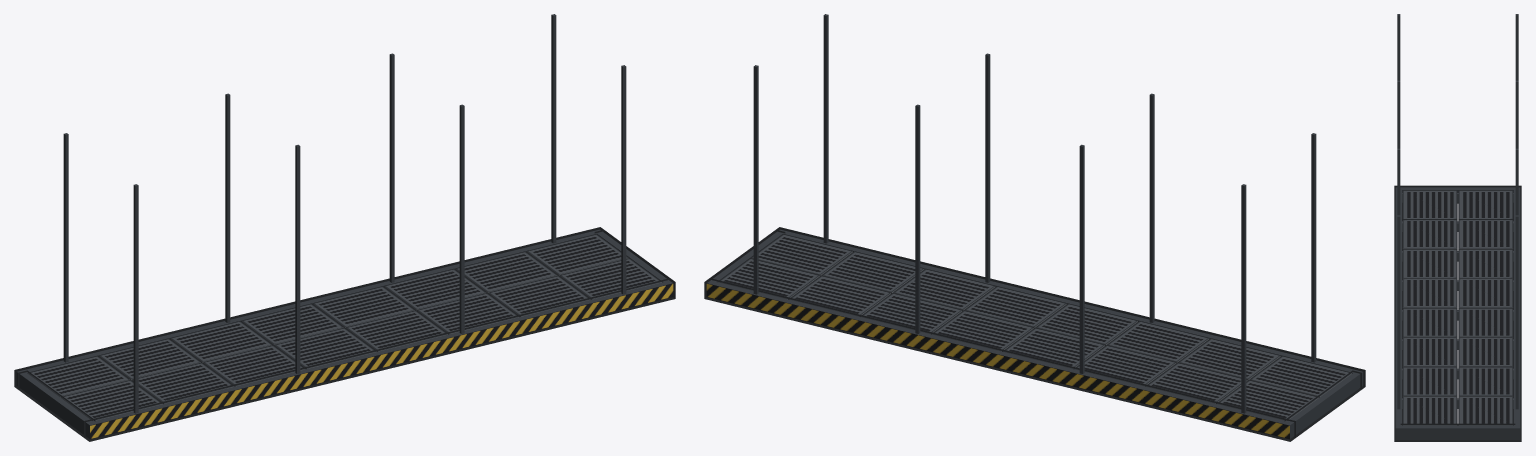
Rendered from SM_Catwalk.glb.
3 views of the same model, side by side, from view 1: azimuth 30°, elevation 25°; view 2: azimuth 150°, elevation 25°; view 3: azimuth 270°, elevation 25° (orthographic). The views are drawn at different scales.
Visible parts, largest first — view 1: SM_Catwalk, SM_Catwalk_Outline; view 2: SM_Catwalk, SM_Catwalk_Outline; view 3: SM_Catwalk, SM_Catwalk_Outline.
Part boxes in pixels (x1,y1,x2,y2): SM_Catwalk: (16, 14, 673, 439); SM_Catwalk_Outline: (14, 227, 675, 441); SM_Catwalk: (706, 14, 1363, 439); SM_Catwalk_Outline: (704, 227, 1365, 441); SM_Catwalk: (1395, 14, 1520, 439); SM_Catwalk_Outline: (1394, 185, 1521, 441).
Bounding box in the file's own units: 11.06 × 4.38 × 2.46.
2 materials, 1 textured.
